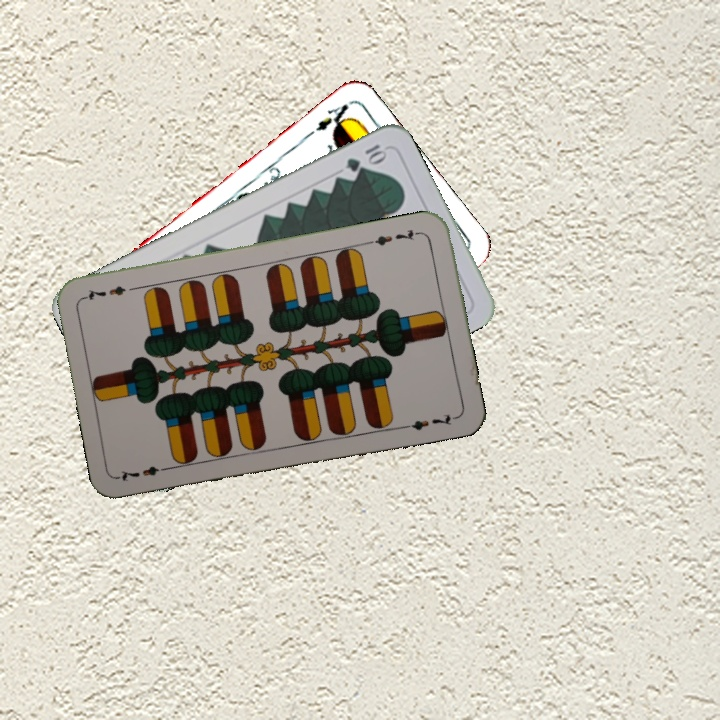E7: (366, 225, 425, 249), (115, 461, 174, 483)
EA: (302, 100, 355, 140)
G10: (342, 140, 389, 175)
